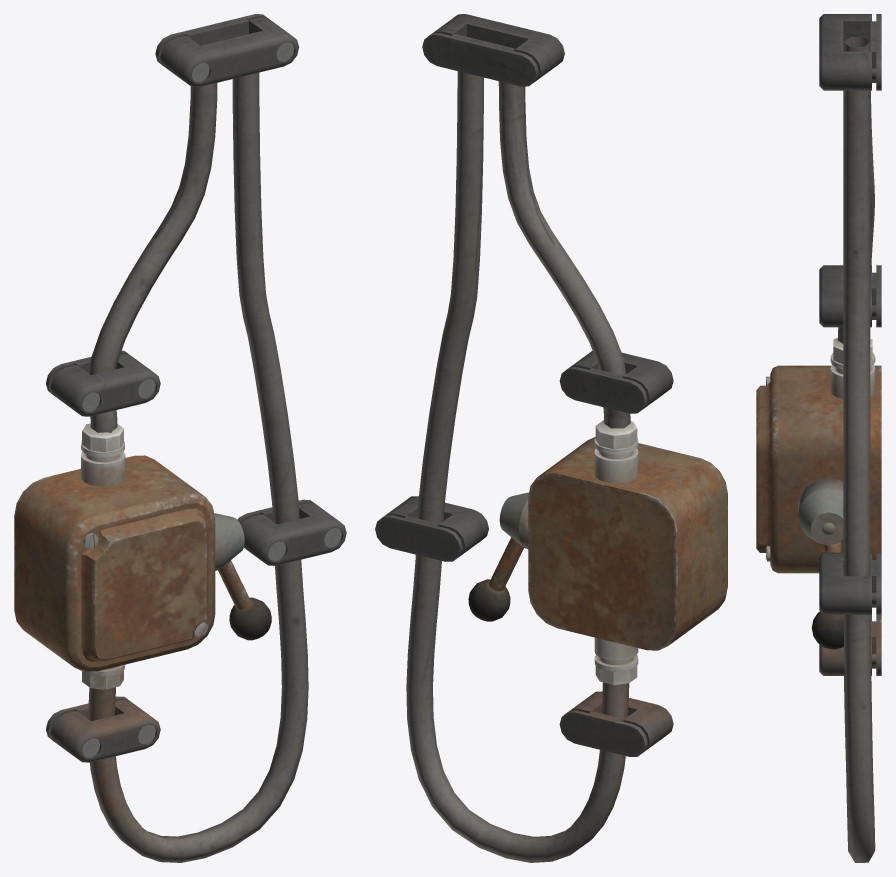
The model's file is cable_switch.gltf.
3 renders of one model, left to right at view 1: azimuth 30°, elevation 25°; view 2: azimuth 150°, elevation 25°; view 3: azimuth 270°, elevation 25°, orthographic.
Visible parts, largest first — view 1: cable_switch; view 2: cable_switch; view 3: cable_switch.
Boxes of the visible parts, x1,y1,x2,y2 form: cable_switch: [14, 14, 346, 862]; cable_switch: [375, 14, 727, 862]; cable_switch: [756, 14, 881, 862].
Bounding box in the file's own units: 0.1469 × 0.3788 × 0.0522.
Materials: 1 (1 with a texture image).
